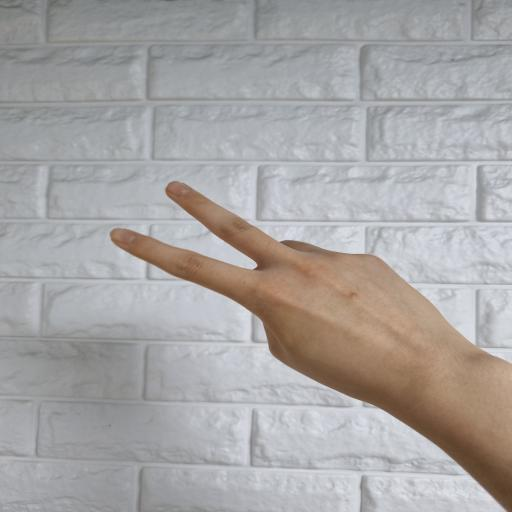Scissors: (108, 179, 493, 405)
